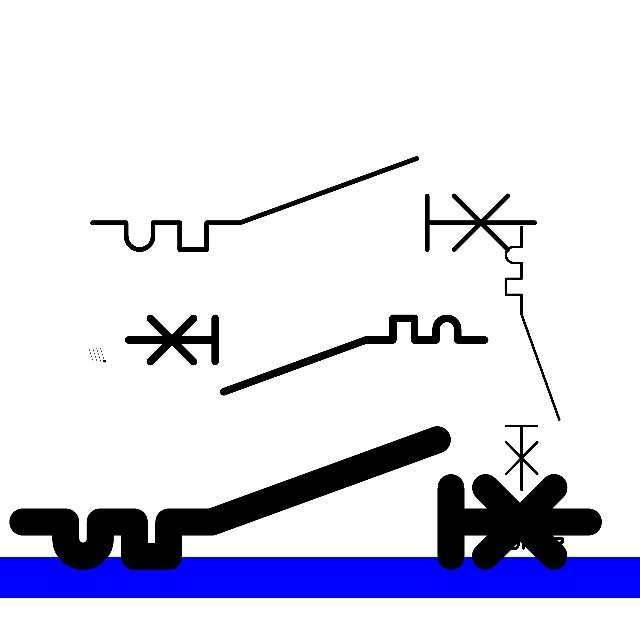interruptor_termomagnetico: (8, 425, 603, 571), (81, 147, 546, 261), (119, 309, 494, 400), (499, 220, 566, 496)
